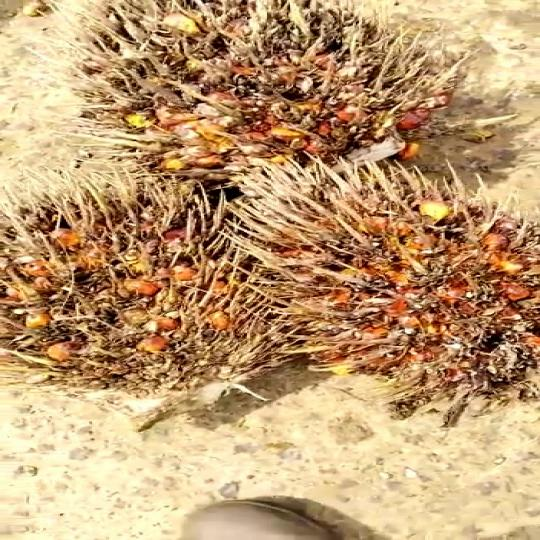terlalu masak: (207, 147, 540, 395), (74, 0, 458, 192), (0, 179, 276, 420)
